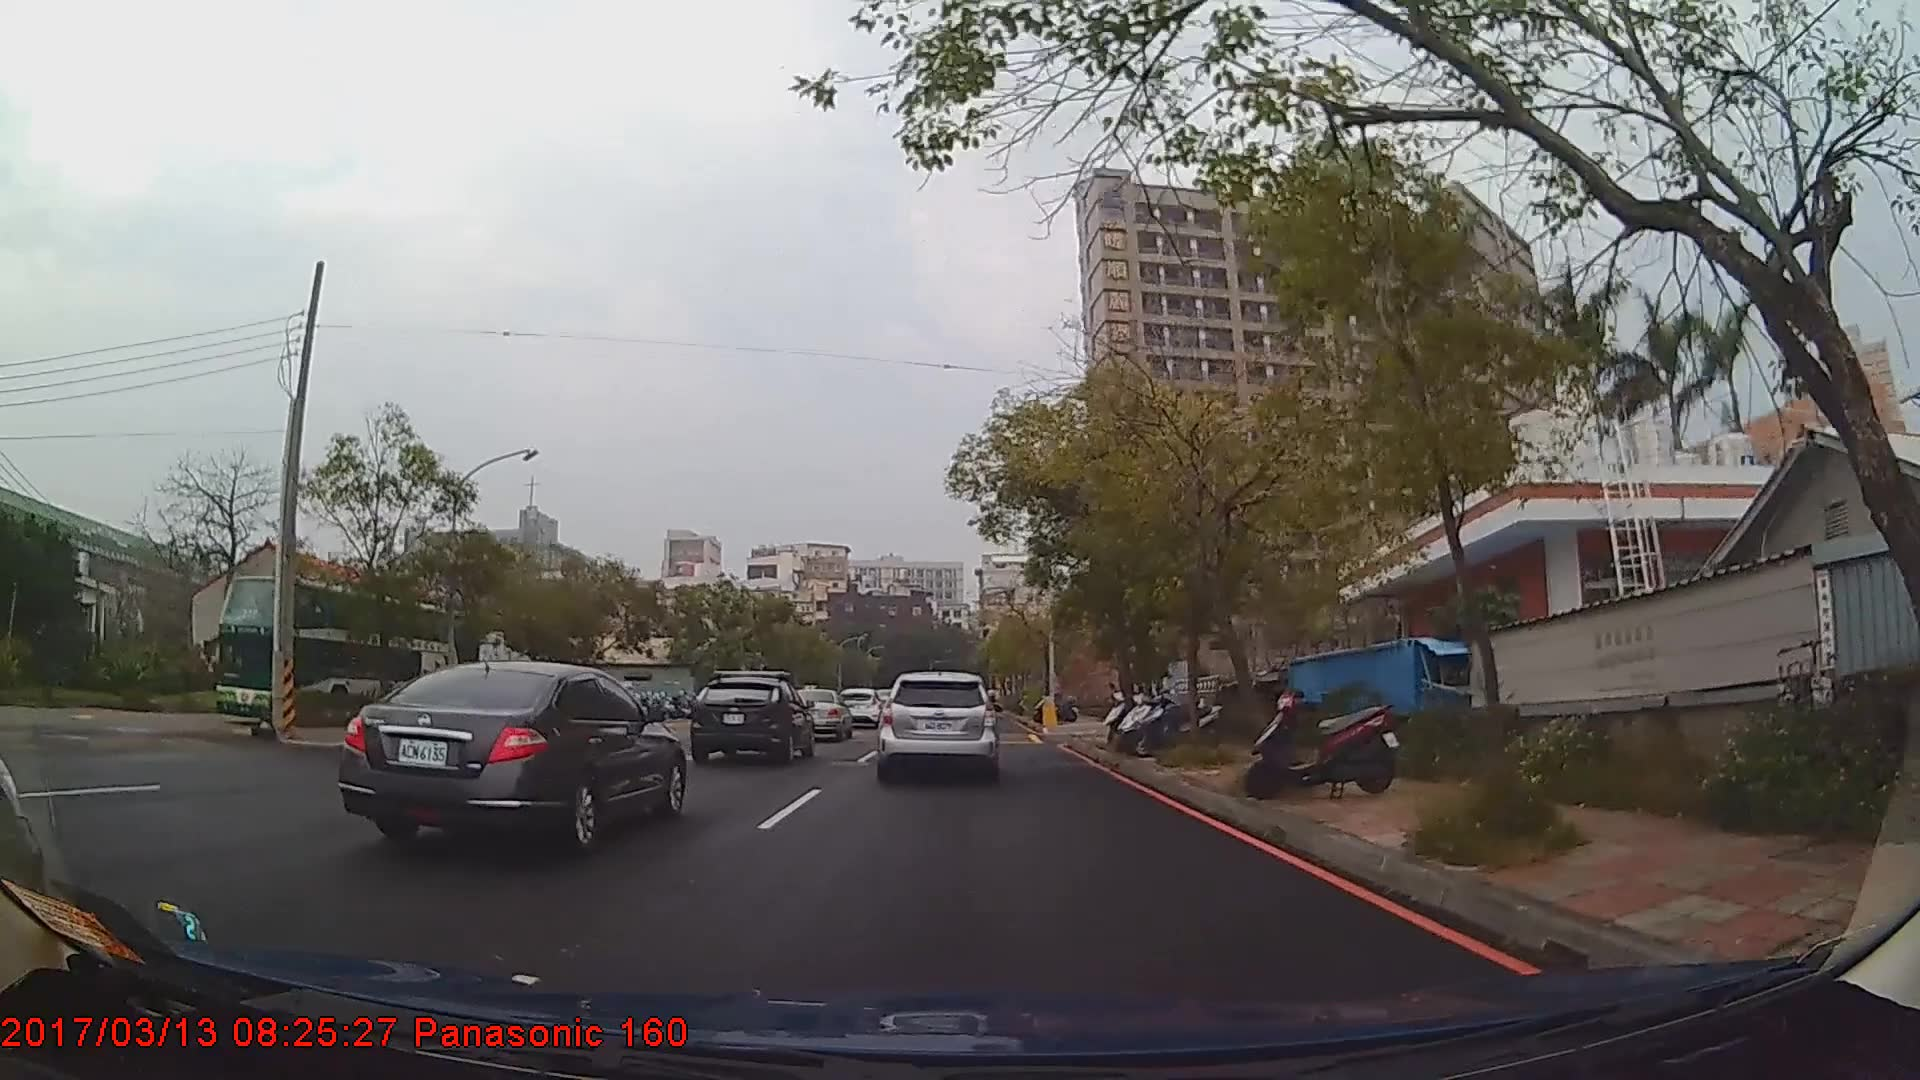vehicle: (338, 659, 684, 851), (210, 574, 452, 735), (877, 667, 997, 779), (688, 669, 814, 764), (789, 684, 851, 738), (836, 684, 882, 727)
